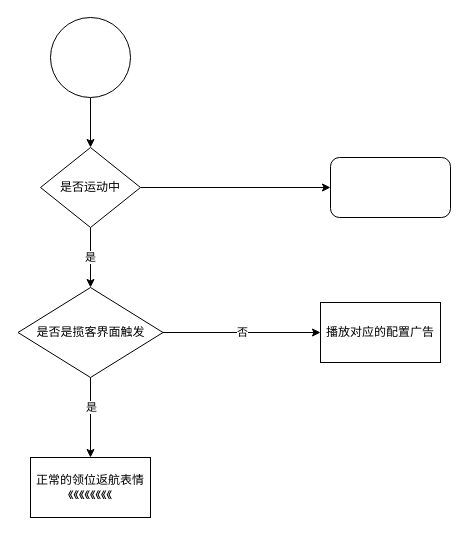
This 468x535 diagram has some shape labels left out. Here are the shapes that lost their labels. From the top down, the centre of each, then its label:
At pixel 90 57: "领位返航".
At pixel 390 187: "暂停界面".
